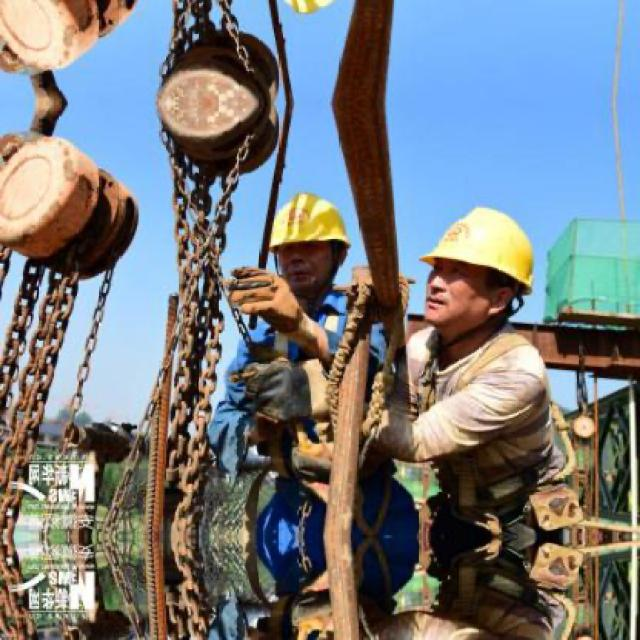sin casco: (396, 176, 574, 358), (256, 188, 408, 330)
